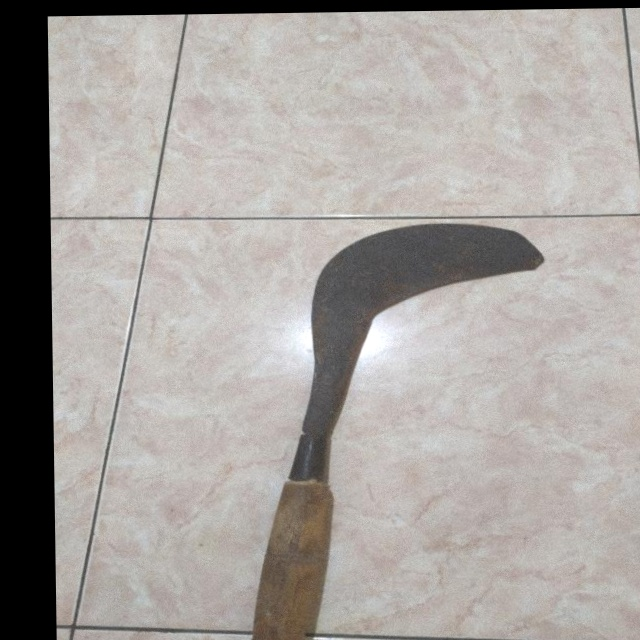Sharp-Object: (236, 212, 570, 640)
